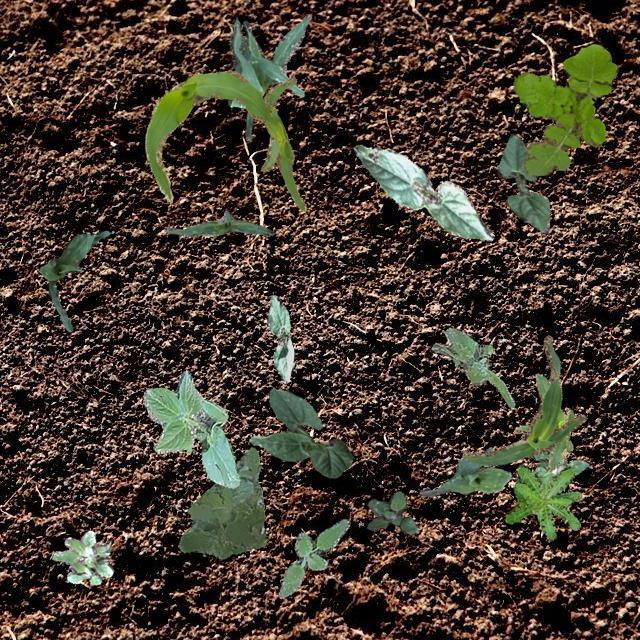crop: (144, 68, 306, 210), (462, 334, 586, 464), (354, 144, 494, 240), (142, 370, 238, 488), (227, 12, 310, 140), (248, 386, 352, 476), (39, 230, 110, 330), (514, 372, 574, 474), (496, 132, 548, 232), (418, 446, 511, 494), (165, 210, 272, 236), (266, 294, 294, 382)
weed: (512, 42, 618, 176), (178, 447, 266, 558), (431, 326, 514, 406), (504, 464, 580, 538), (278, 518, 348, 598), (51, 530, 112, 584), (366, 490, 416, 532), (530, 448, 588, 482)
